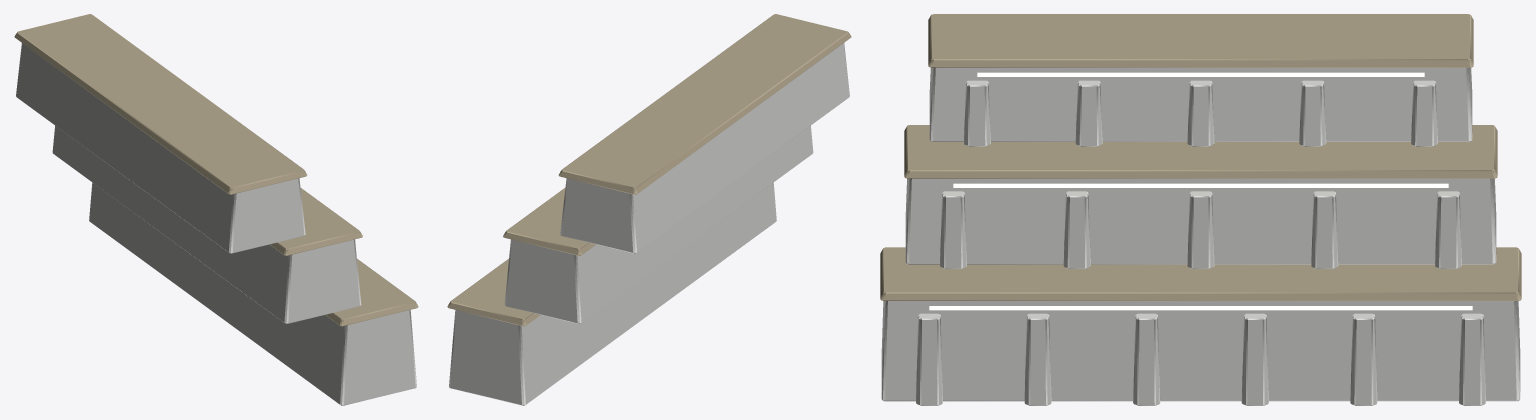
Rendered from SM_SB_Kit_Terrace.fbx.
3 renders of one model, left to right at view 1: azimuth 30°, elevation 25°; view 2: azimuth 150°, elevation 25°; view 3: azimuth 270°, elevation 25°, orthographic. The views are drawn at different scales.
Parts seen in each view (by area): view 1: SM_SB_Kit_Terrace; view 2: SM_SB_Kit_Terrace; view 3: SM_SB_Kit_Terrace.
Part boxes in pixels (box(x1,y1,x2,y2)): SM_SB_Kit_Terrace: box(14, 14, 418, 405); SM_SB_Kit_Terrace: box(447, 14, 851, 405); SM_SB_Kit_Terrace: box(880, 14, 1521, 405).
Bounding box in the file's own units: 1612 × 4016 × 1970.
